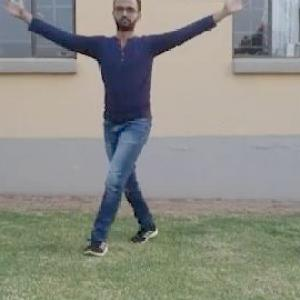takeoff: (11, 0, 222, 219)
